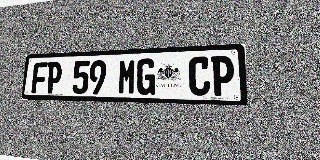5: (72, 61, 90, 94)
9: (88, 60, 107, 94)
C: (189, 56, 210, 96)
F: (31, 62, 48, 93)
G: (136, 58, 156, 95)
M: (117, 59, 137, 95)
P: (211, 55, 234, 96), (46, 62, 62, 94)
